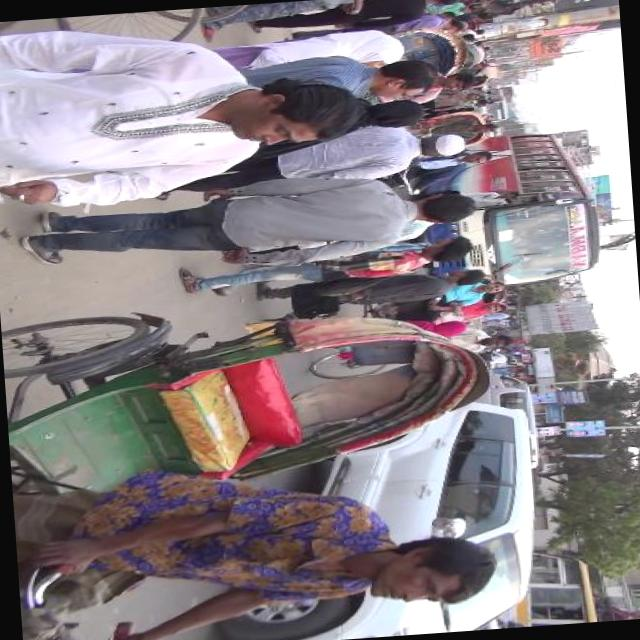bus: (408, 127, 610, 294)
motorcycle: (4, 283, 514, 640), (424, 276, 511, 354), (398, 24, 470, 107), (416, 106, 497, 152)
truck: (484, 372, 535, 416)
